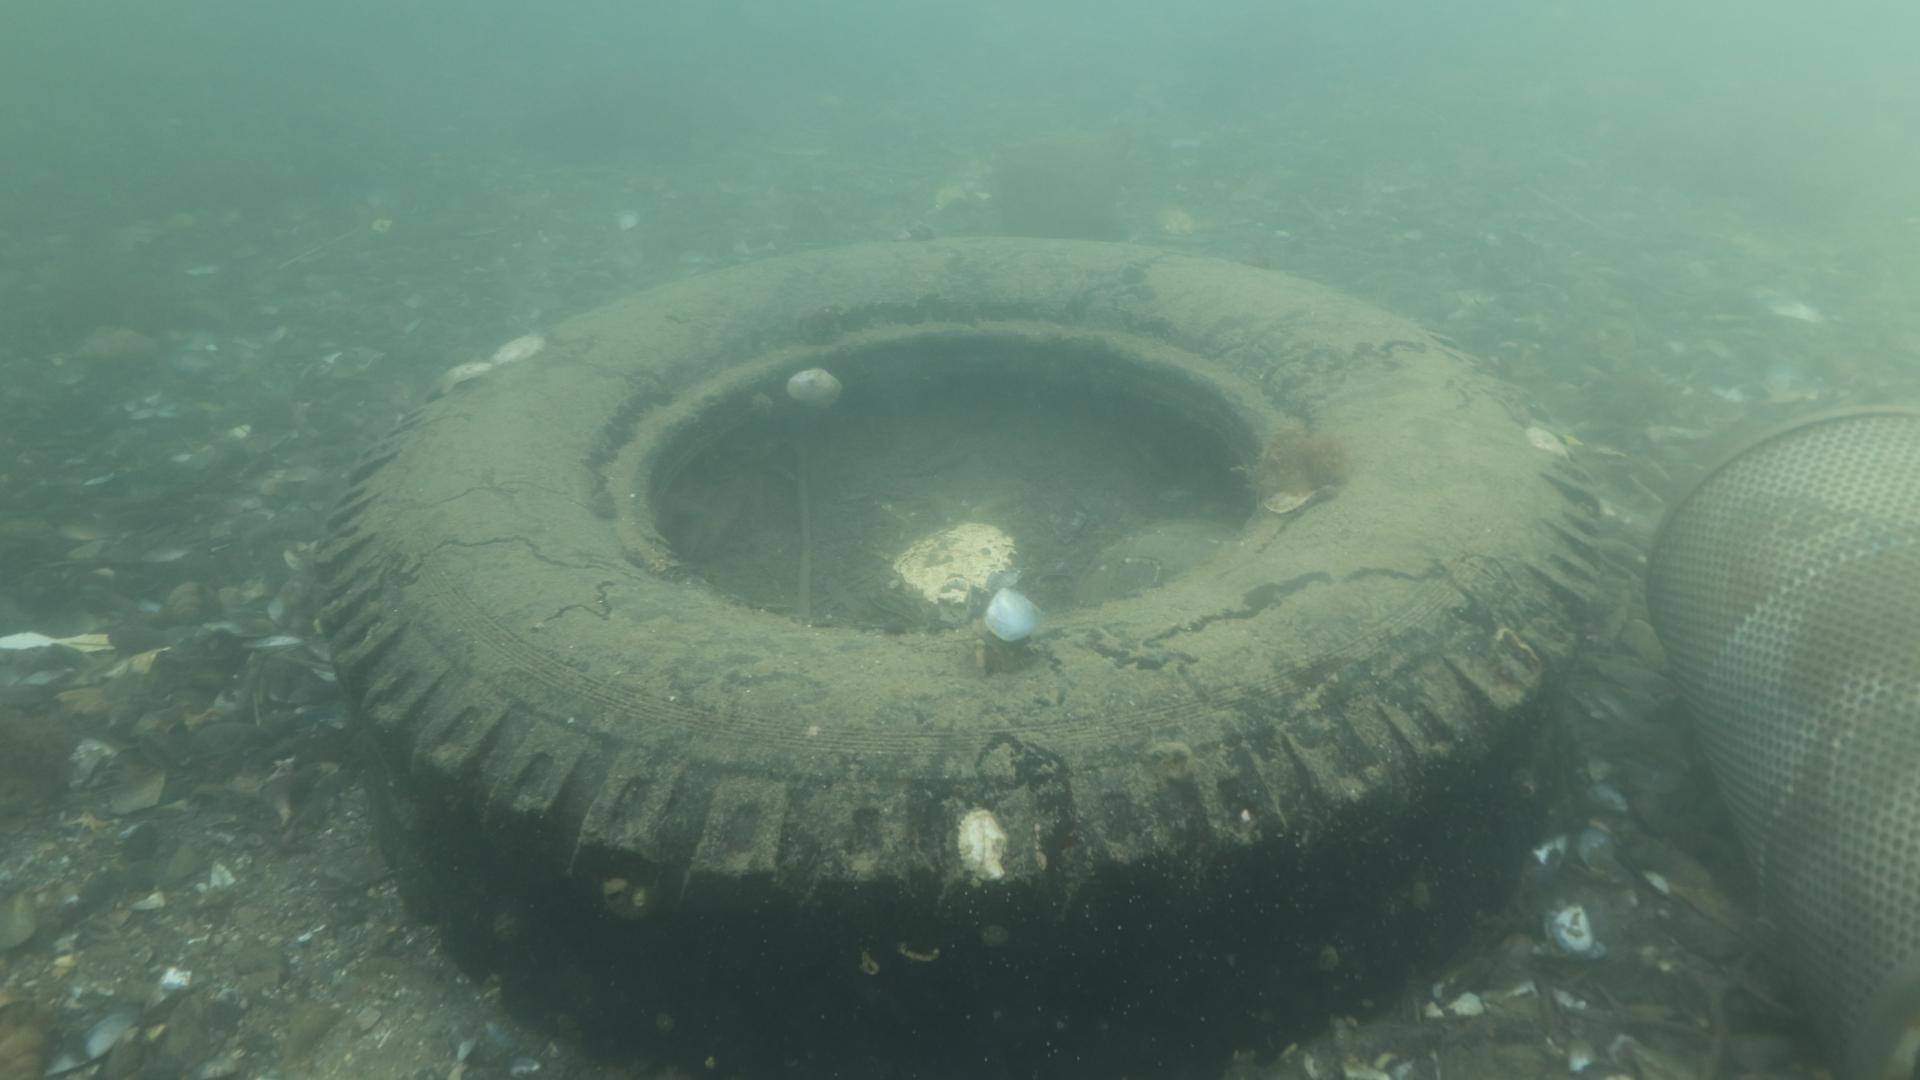tire: (313, 233, 1604, 1080)
